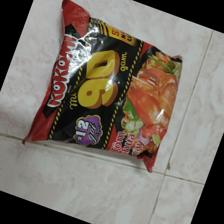Kokomi: (21, 1, 184, 176)
